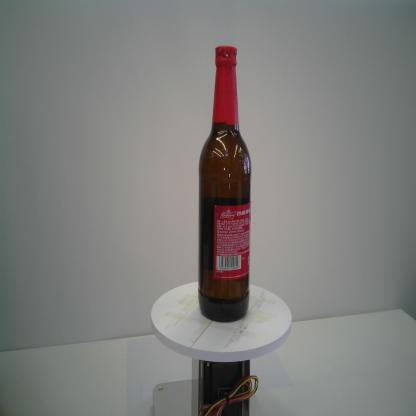Alcohol: (196, 44, 252, 324)
